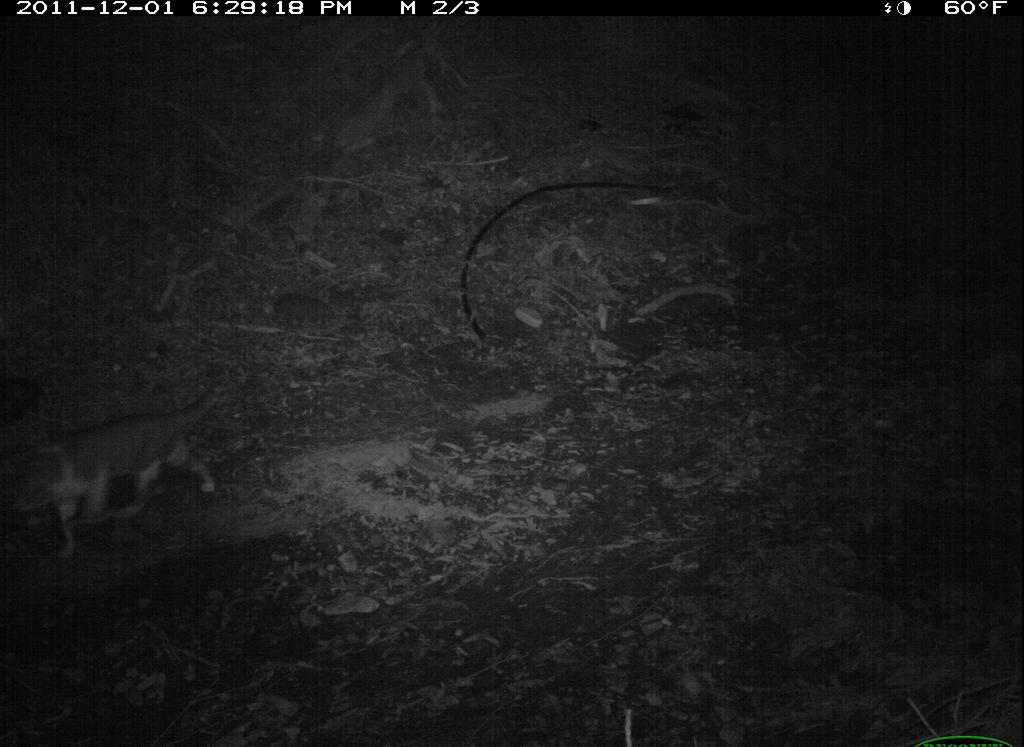cat: (9, 386, 223, 564)
